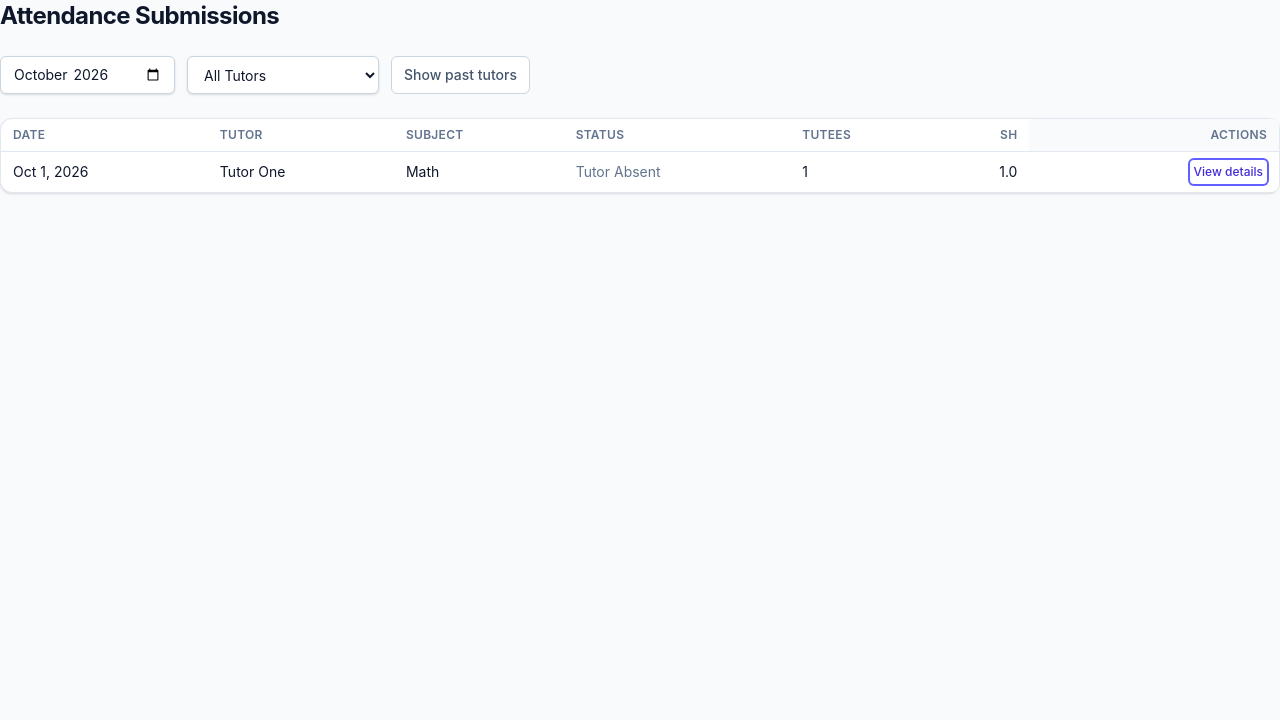
renders the attendance summary and detail from the observer projection in en
The image size is (1280, 720).
Expected: the text "Tutor One" is shown, x1=208 y1=152 x2=394 y2=192
Expected: the text "Tutee One" is not shown
Click the button "View details". click: (1228, 172)
box: x1=1190 y1=160 x2=1267 y2=184
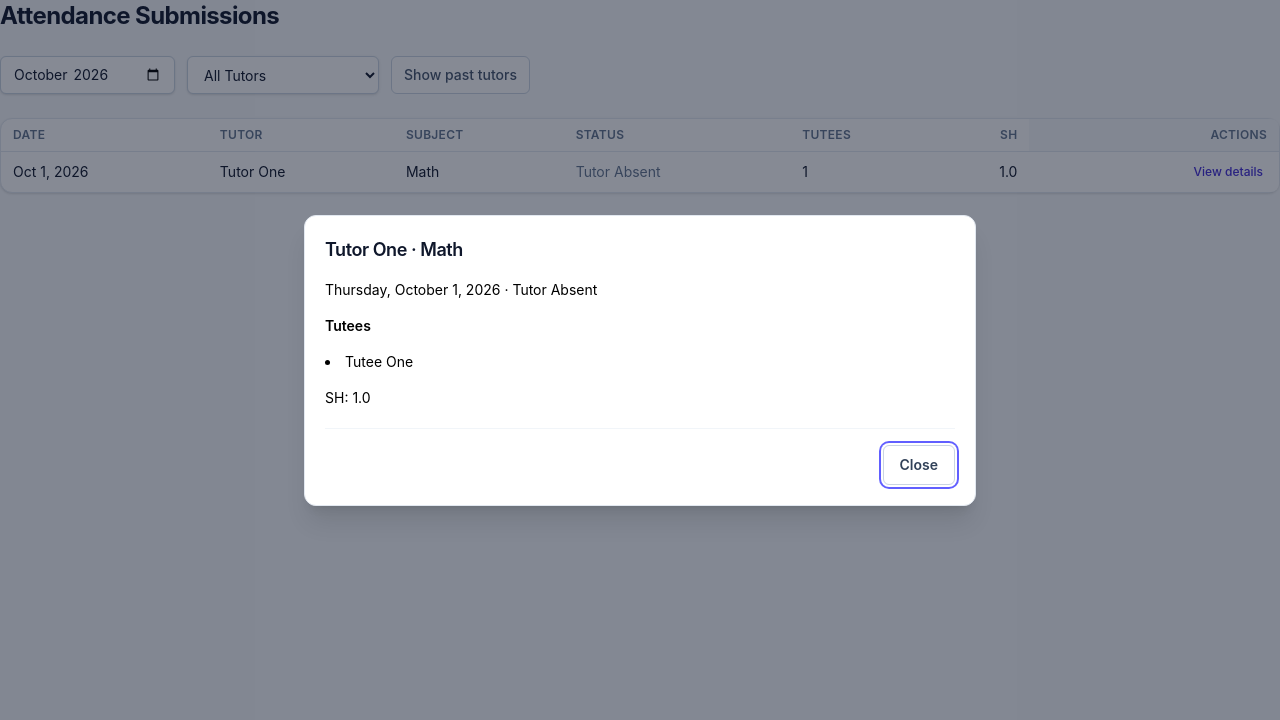
Result: the list item "Tutee One" is shown at x1=345 y1=352 x2=413 y2=370
Click the button "Close". click: (919, 464)
box: x1=882 y1=444 x2=955 y2=484
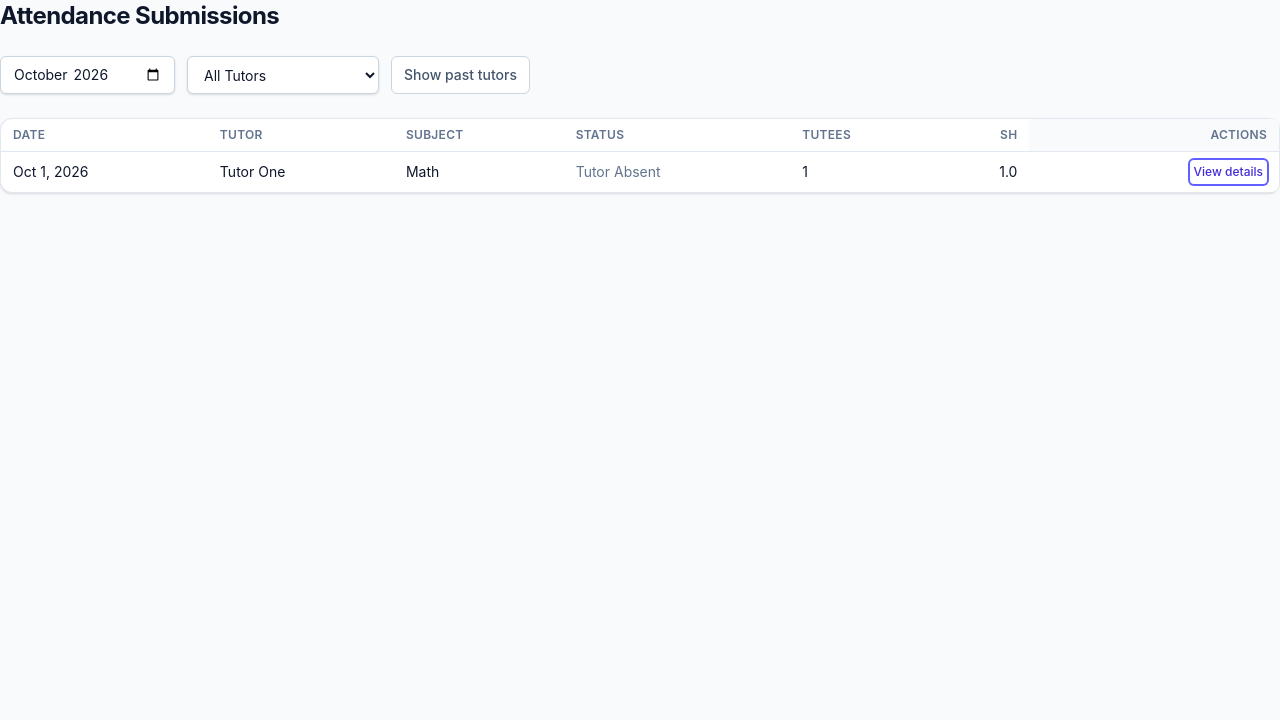
Result: the dialog is gone
